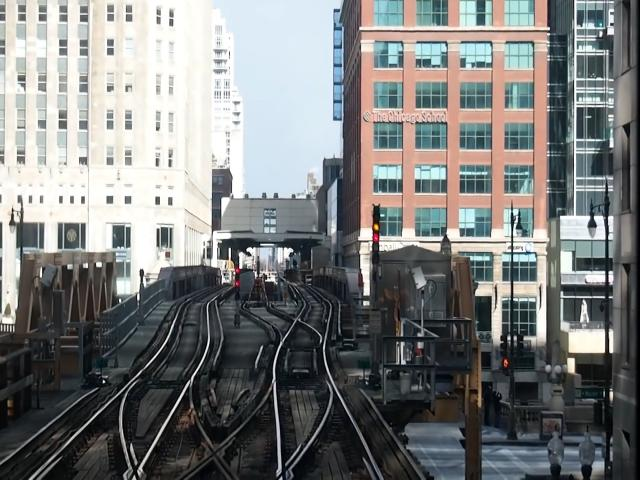signal light: (372, 202, 384, 272), (234, 265, 244, 301)
